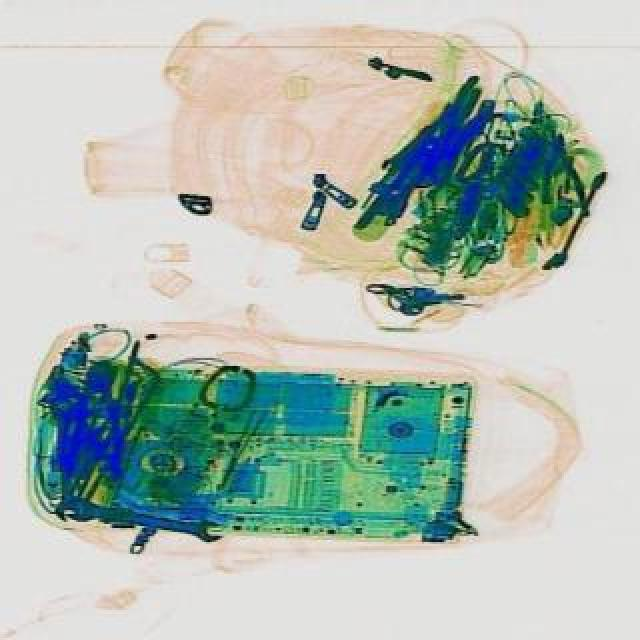scissors: (66, 496, 222, 544), (46, 396, 78, 520)
